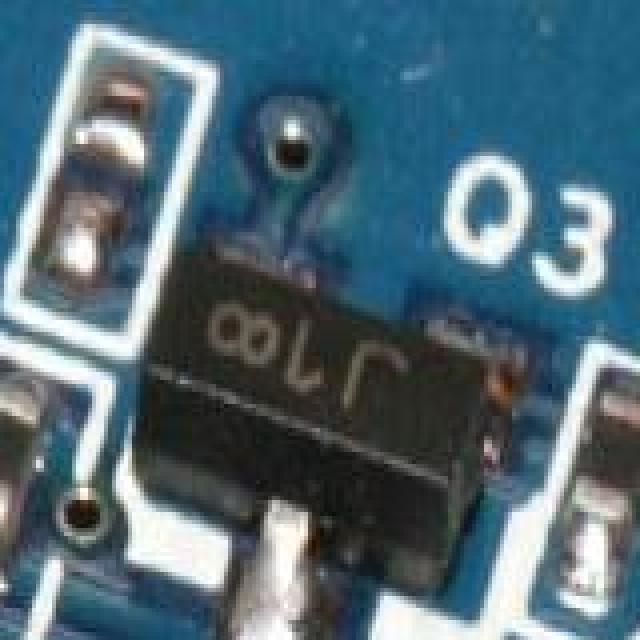resistor: (572, 372, 640, 576), (0, 340, 36, 572)
transistor: (112, 240, 524, 630)
